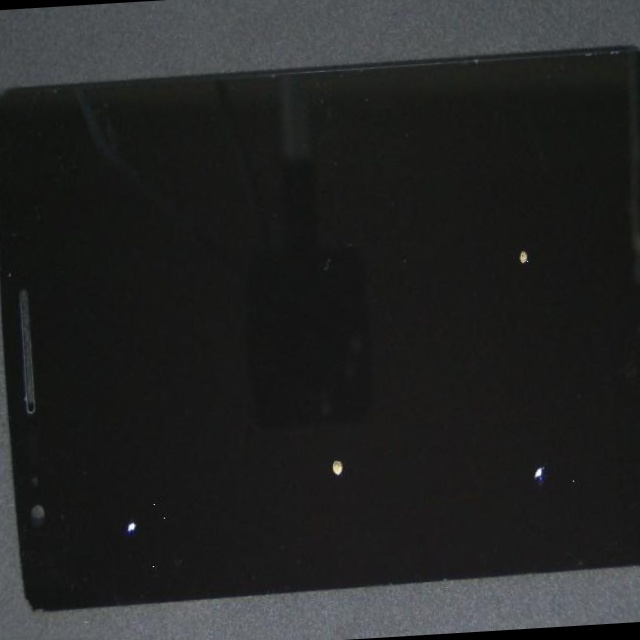stain: (227, 232, 640, 640), (203, 94, 640, 426), (128, 243, 482, 640), (0, 313, 196, 640)
